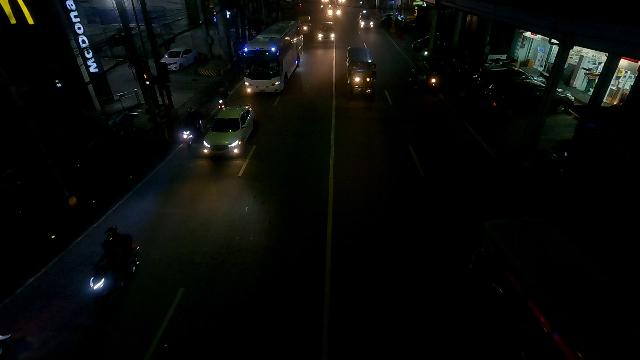bus: (243, 20, 303, 92)
car: (203, 105, 255, 156), (317, 21, 335, 41), (360, 14, 375, 29)
jeepney: (347, 46, 377, 94), (297, 16, 311, 36)
motorcycle: (80, 221, 148, 306)
